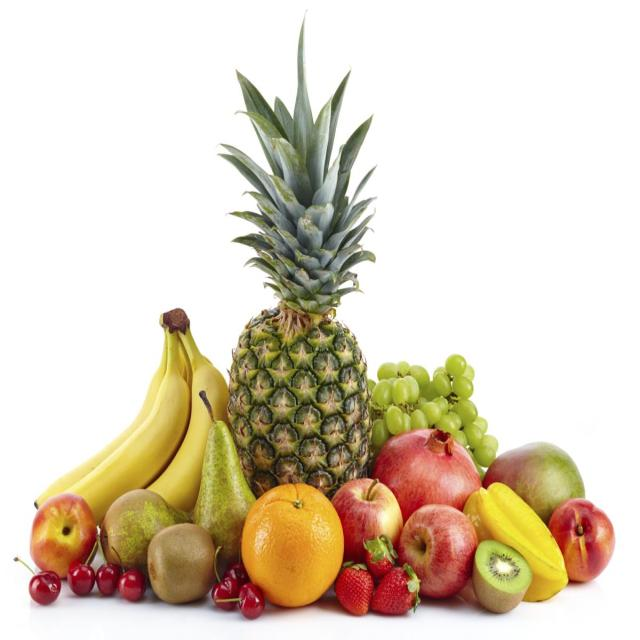apple: (400, 504, 480, 604), (24, 499, 98, 570), (336, 484, 403, 551)
pineapple: (223, 244, 365, 490)
strawberry: (368, 564, 424, 616), (335, 562, 374, 618)
